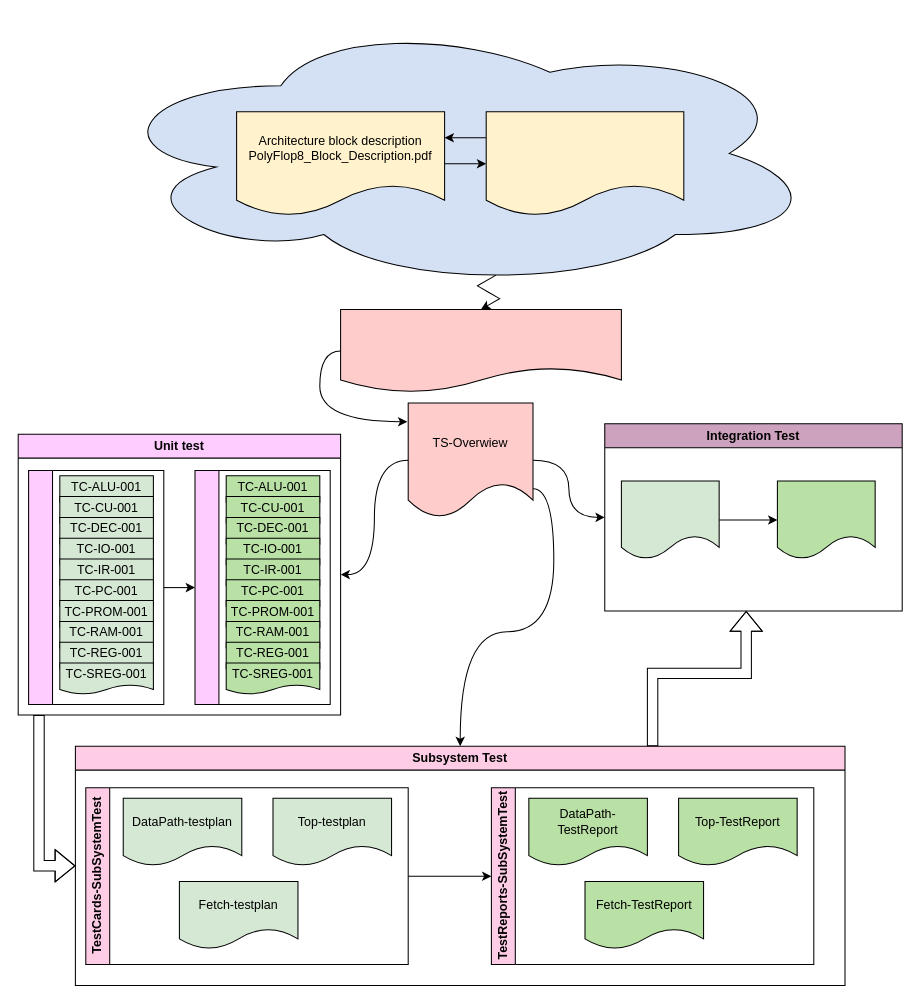
The diagram is 920 pixels wide and 1004 high, and some of its shapes have lost their labels. Here are the shapes that lost their labels. From the top down, the centre of each, then its label:
At [584,163]: "ISR-Manual PolyFlop8_Instruction_manual.pdf".
At [480,350]: "PolyFlop8_ISTQB_Test_Bench_requirements.pdf".
At [669,519]: "Integration-Test-Plan".
At [825,519]: "Integration-Test-Report".
At [96,587]: "TestCards-UnitTest".
At [262,587]: "TestReports-UnitTest".
